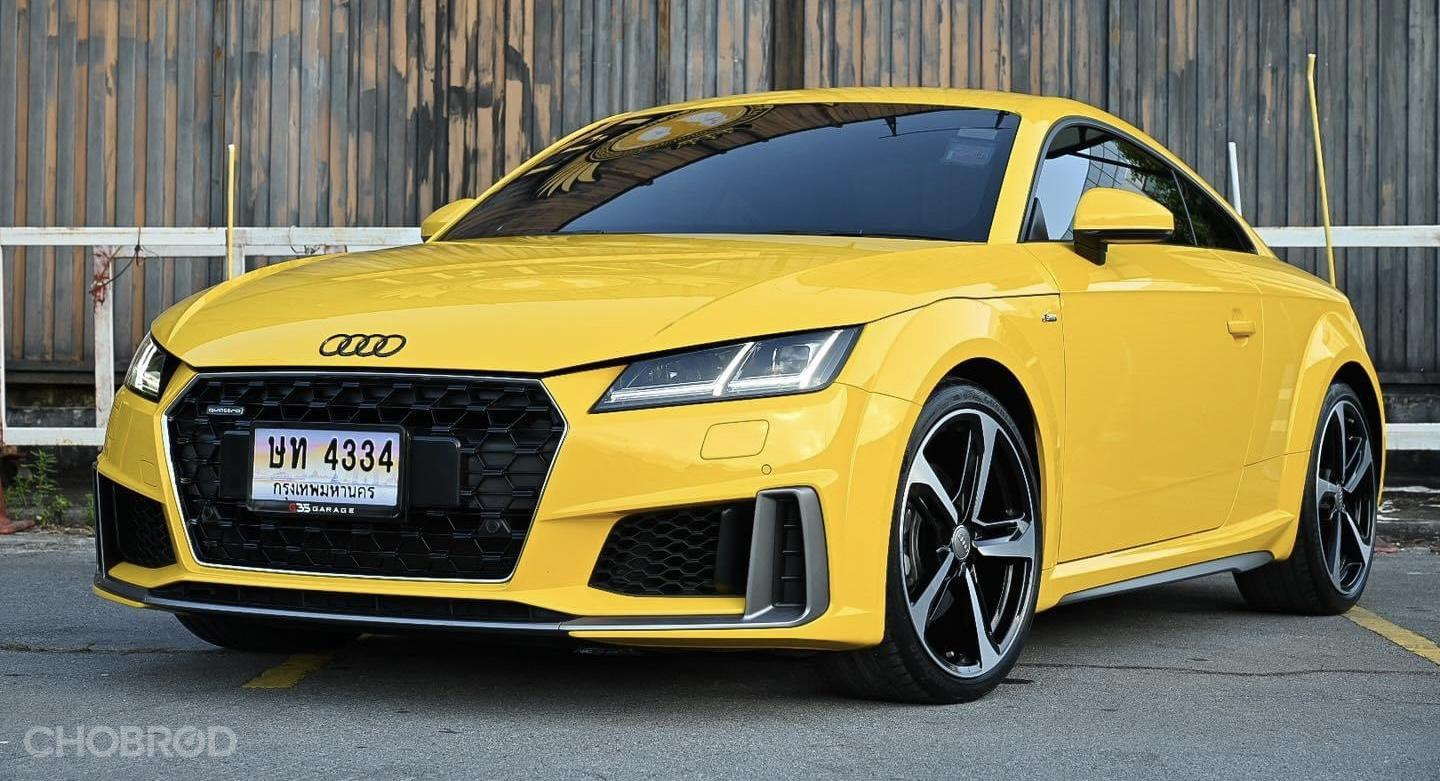license-plate: (248, 423, 409, 522)
